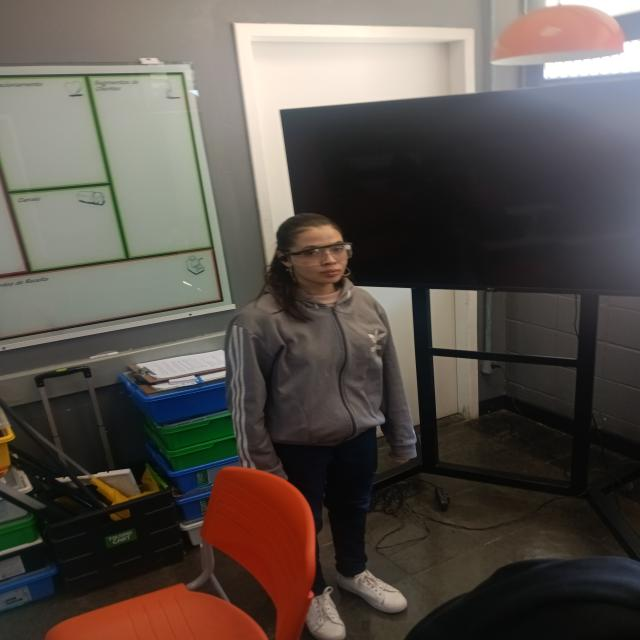oculos-epi: (285, 242, 352, 266)
